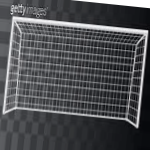goals: (1, 15, 150, 130)
